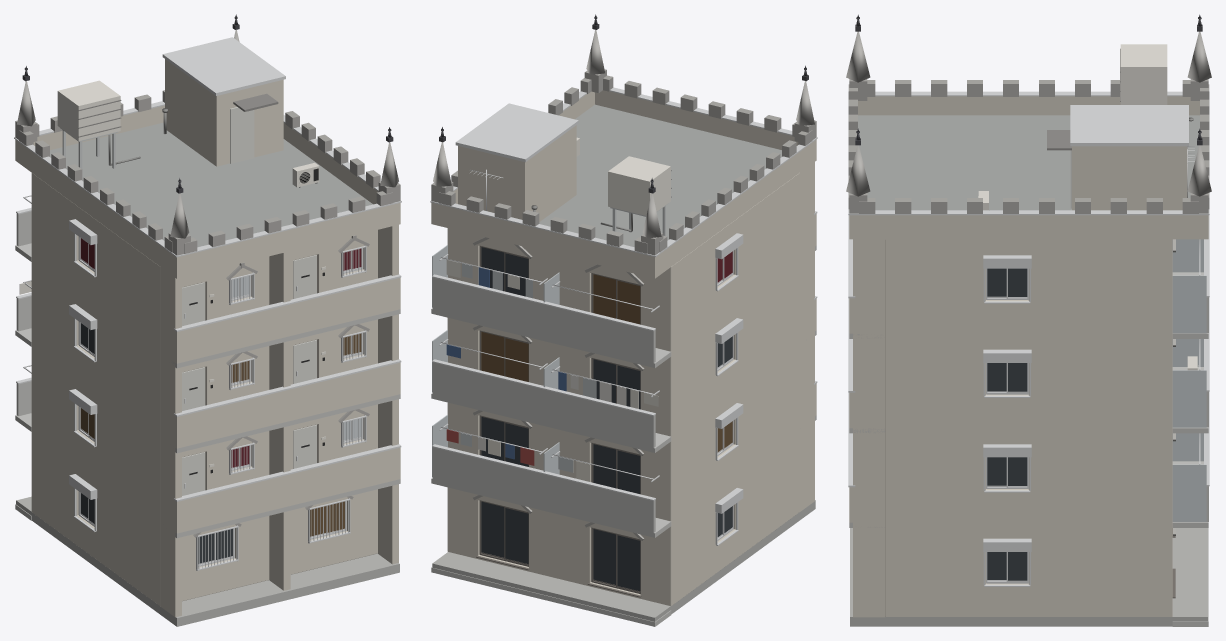
The model's file is blk_skyline4.glb.
3 views of the same model, side by side, from view 1: azimuth 30°, elevation 25°; view 2: azimuth 150°, elevation 25°; view 3: azimuth 270°, elevation 25° (orthographic). The views are drawn at different scales.
Parts seen in each view (by area): view 1: blk_skyline4; view 2: blk_skyline4; view 3: blk_skyline4.
Part boxes in pixels (<box>): blk_skyline4: <box>14,14,401,626</box>; blk_skyline4: <box>430,14,817,626</box>; blk_skyline4: <box>846,14,1211,626</box>.
Size of the model in its own units: 8.46 by 15.2 by 10.18.
